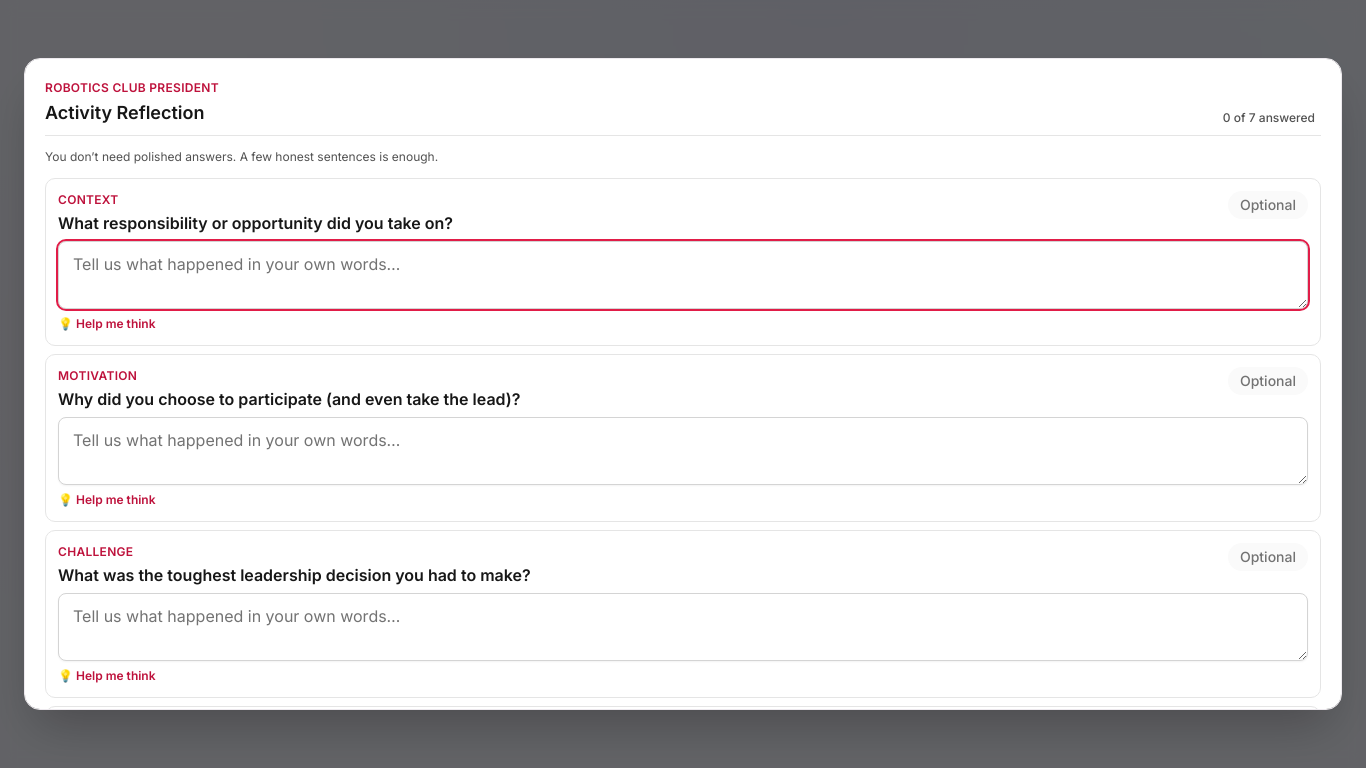
Test: ActivityReflectionModal › supports progressive disclosure: Help me think & Need inspiration
Click "Help me think" for first dimension
Step 1. Click the button "💡 Help me think" below "Context" → (107, 324), box [58,315,156,333]
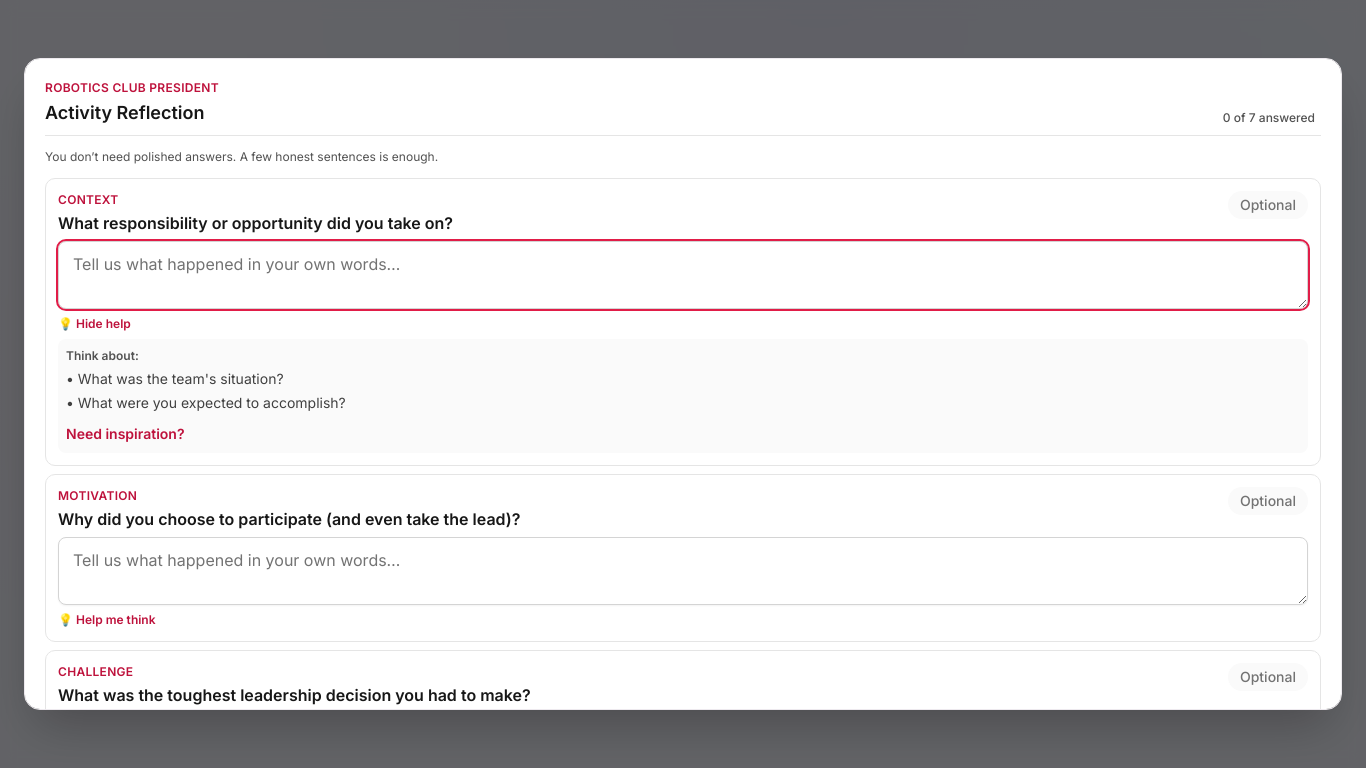
expect the text "Think about:" is shown: met, box [66,348,139,363]
Step 2. Click the button "Need inspiration?" → (125, 434), box [66,424,184,444]
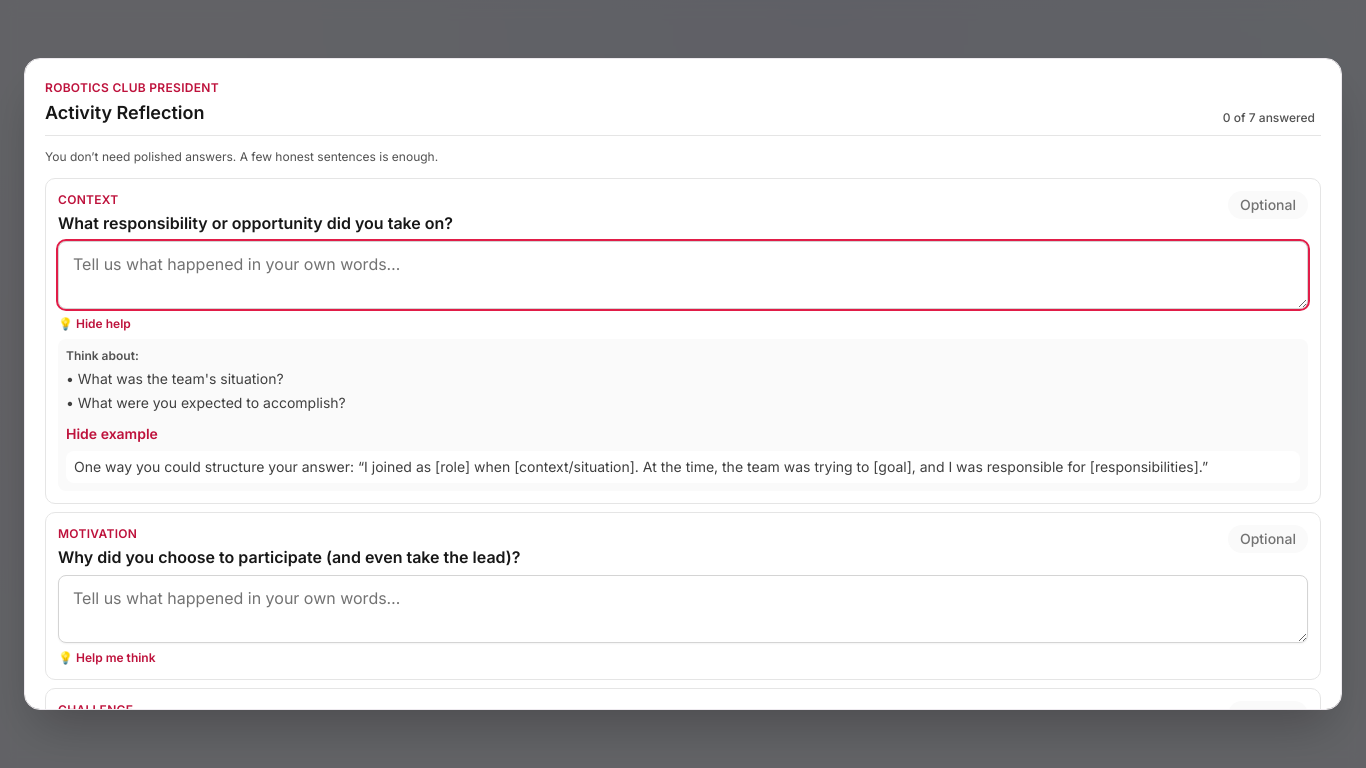
expect the text "One way you could structure your answer:" is shown: met, box [74,458,354,475]
